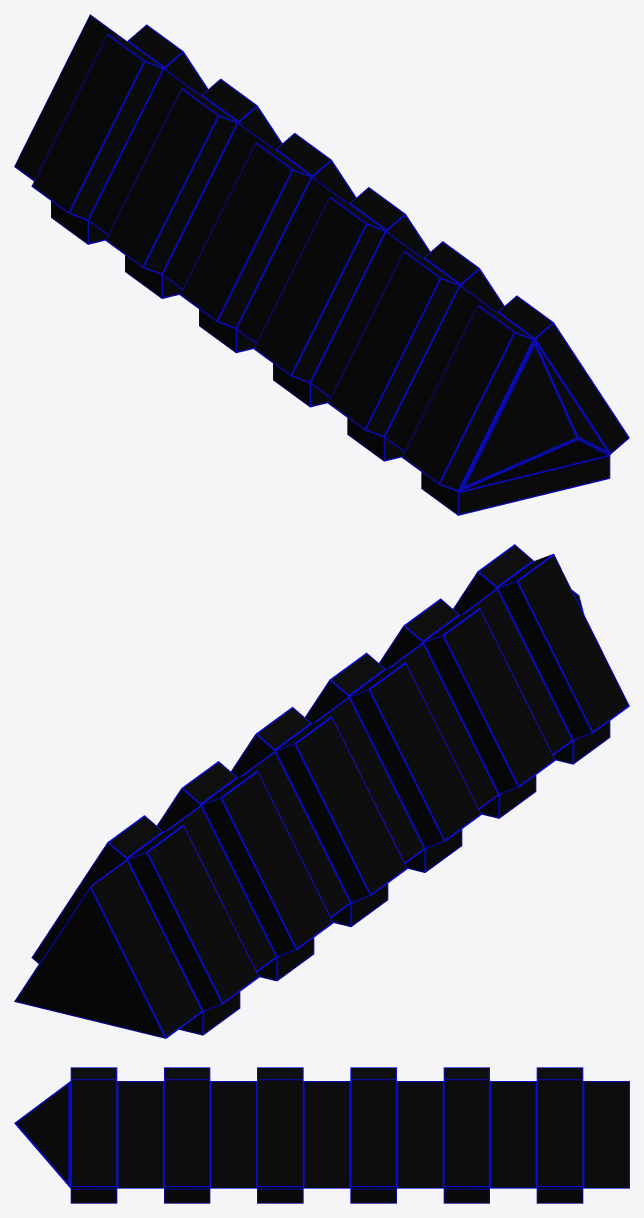
File: Shotty.fbx
The picture shows the model from 3 angles, top to bottom: view 1: azimuth 30°, elevation 25°; view 2: azimuth 150°, elevation 25°; view 3: azimuth 270°, elevation 25°; orthographic projection. The views are drawn at different scales.
Parts seen in each view (by area): view 1: pCube1; view 2: pCube1; view 3: pCube1.
Boxes of the visible parts, x1,y1,x2,y2 form: pCube1: (14,14,629,515); pCube1: (14,544,629,1038); pCube1: (14,1067,629,1203).
Bounding box in the file's own units: 1.49 × 1.27 × 6.61.
Materials: 1 (1 with a texture image).
